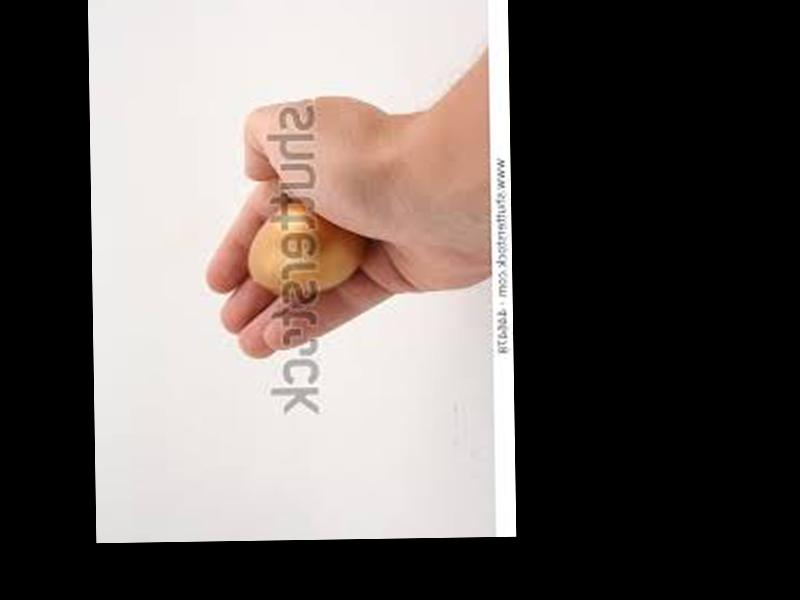Eggs: (247, 205, 363, 294)
